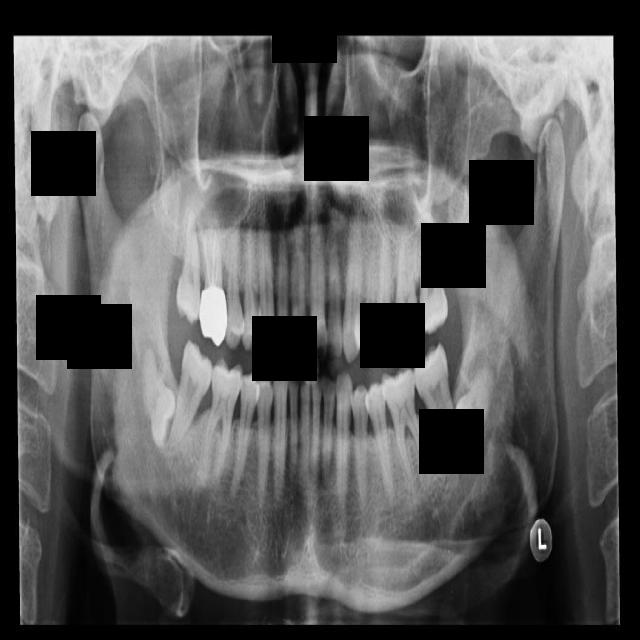52: (197, 287, 228, 347)
73: (194, 206, 228, 289), (588, 554, 596, 580)
BioHorizons Implant: (415, 210, 449, 335)
Biomet 3i Implant: (443, 349, 505, 458)
Blue Sky Bio Implant: (408, 344, 462, 463)
Caries: (175, 208, 203, 324)
Implant: (167, 339, 219, 453)
Keystone Dental Implant: (139, 347, 180, 448)
